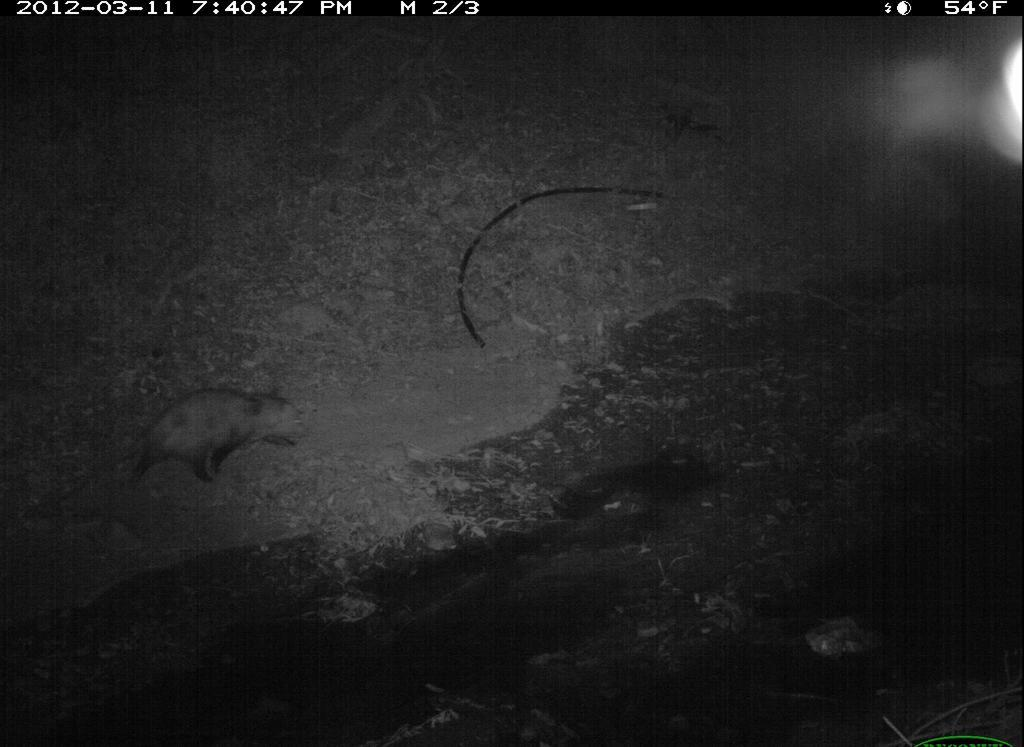opossum: (113, 381, 313, 498)
